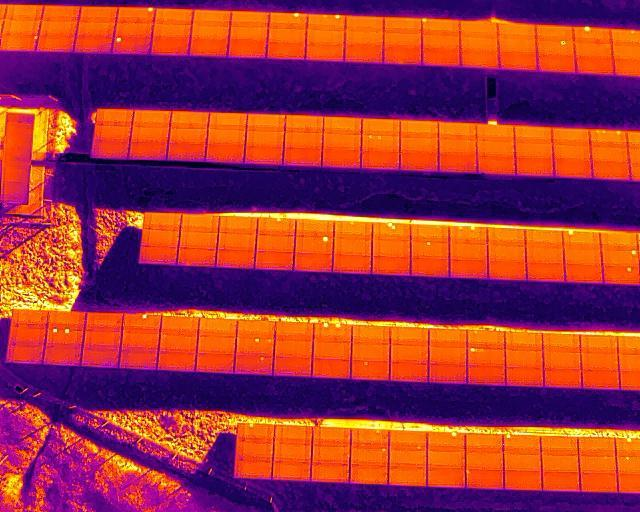Cell: (350, 428, 389, 448), (351, 361, 390, 381), (235, 355, 273, 374), (501, 434, 541, 452), (467, 348, 506, 366), (411, 241, 449, 259), (389, 431, 427, 449), (350, 447, 388, 465), (333, 221, 372, 238), (601, 249, 640, 266), (295, 237, 333, 254), (258, 218, 296, 235), (602, 266, 640, 283), (114, 37, 151, 54), (427, 432, 465, 448), (237, 424, 274, 440), (575, 26, 612, 42), (117, 7, 154, 23), (269, 13, 308, 28), (422, 19, 460, 34), (537, 40, 575, 55), (563, 233, 600, 248), (122, 315, 161, 329)
Cell-Multi: (235, 335, 275, 354), (590, 129, 628, 147), (361, 135, 399, 153), (371, 222, 410, 239), (45, 327, 84, 344), (314, 325, 353, 341), (307, 14, 346, 30), (449, 227, 487, 242)
No-Anomaly: (503, 451, 542, 473), (41, 344, 82, 364), (274, 337, 313, 358), (410, 257, 449, 278), (120, 329, 160, 349), (83, 326, 123, 346), (119, 349, 159, 369), (311, 462, 349, 483), (178, 230, 217, 250), (503, 470, 542, 490), (160, 331, 199, 351), (465, 450, 504, 470), (312, 340, 351, 360), (195, 351, 234, 371), (273, 442, 313, 461), (564, 264, 604, 283), (541, 472, 580, 491), (426, 467, 465, 486), (388, 466, 427, 485), (9, 325, 48, 344), (372, 256, 411, 275), (449, 260, 488, 279), (255, 251, 294, 270), (177, 249, 216, 268), (272, 462, 311, 481), (388, 448, 427, 467), (158, 351, 197, 370), (92, 139, 129, 159), (236, 440, 273, 460), (580, 473, 618, 492), (245, 146, 283, 165), (323, 115, 361, 134), (235, 460, 273, 479), (544, 368, 582, 387), (82, 347, 120, 366), (505, 349, 543, 368), (6, 343, 44, 362), (525, 264, 565, 282), (141, 246, 177, 266), (351, 343, 391, 361), (350, 465, 387, 484), (286, 113, 323, 132), (551, 128, 590, 146), (333, 237, 372, 255), (448, 242, 487, 260), (256, 235, 295, 253), (477, 157, 516, 175), (439, 155, 478, 173), (321, 149, 360, 167), (312, 429, 351, 447), (333, 255, 372, 273), (216, 250, 255, 268), (505, 368, 544, 386), (426, 449, 465, 467), (273, 357, 312, 375), (390, 363, 429, 381), (390, 345, 429, 363), (488, 245, 526, 263), (468, 470, 504, 489), (206, 146, 244, 164), (578, 438, 616, 456), (312, 444, 350, 462), (294, 254, 332, 272), (247, 113, 285, 131), (171, 111, 209, 129), (209, 111, 247, 129), (429, 347, 467, 365), (582, 352, 618, 371), (189, 38, 227, 56), (575, 58, 615, 75), (459, 51, 499, 68), (544, 351, 581, 369), (207, 129, 246, 146), (371, 240, 410, 257), (219, 217, 258, 234), (284, 132, 323, 149), (465, 434, 504, 451), (74, 36, 113, 53), (197, 335, 236, 352), (352, 326, 391, 343), (488, 263, 527, 280), (562, 247, 601, 264), (524, 247, 563, 264), (306, 44, 345, 61), (540, 455, 579, 472), (383, 47, 422, 64), (267, 42, 306, 59), (227, 41, 266, 58), (143, 230, 179, 248), (131, 126, 169, 143), (439, 122, 477, 139), (362, 118, 400, 135), (217, 233, 255, 250), (181, 215, 219, 232), (129, 143, 167, 160), (361, 152, 399, 169), (284, 149, 322, 166), (168, 144, 206, 161), (540, 437, 578, 454), (542, 334, 580, 351), (429, 330, 467, 347), (391, 329, 429, 346), (36, 35, 74, 52), (345, 46, 383, 63), (2, 18, 40, 35), (467, 366, 505, 383), (499, 53, 537, 70), (536, 55, 574, 72), (421, 49, 459, 66), (523, 230, 563, 246), (579, 455, 616, 472), (582, 371, 619, 388), (313, 360, 350, 377), (410, 225, 449, 241), (600, 233, 639, 249), (399, 137, 438, 153), (400, 154, 439, 170), (590, 147, 629, 163), (467, 332, 506, 348), (199, 319, 238, 335), (133, 110, 172, 126), (383, 32, 422, 48), (151, 39, 190, 55), (145, 213, 181, 230), (169, 128, 207, 144), (323, 134, 361, 150), (77, 22, 115, 38), (155, 8, 193, 24), (152, 23, 192, 38), (515, 127, 552, 143), (478, 141, 515, 157), (516, 158, 553, 174), (554, 161, 591, 177), (506, 333, 543, 349), (96, 108, 133, 124), (430, 365, 467, 381), (580, 336, 617, 352), (400, 122, 439, 137), (245, 132, 284, 147), (85, 312, 124, 327), (237, 320, 276, 335), (48, 311, 87, 326), (460, 36, 499, 51), (268, 28, 307, 43), (306, 30, 345, 45), (535, 25, 574, 40), (230, 26, 269, 41), (39, 21, 78, 36), (232, 11, 271, 26), (79, 8, 118, 23), (574, 43, 613, 58), (95, 124, 131, 140), (0, 35, 36, 51), (477, 126, 515, 141), (487, 229, 525, 244), (439, 140, 477, 155), (591, 163, 629, 178), (295, 221, 333, 236), (552, 146, 590, 161), (275, 426, 313, 441), (422, 34, 460, 49), (345, 32, 383, 47), (192, 24, 230, 39), (345, 16, 383, 31), (384, 17, 422, 32), (193, 9, 231, 24), (42, 6, 80, 21), (516, 143, 553, 158), (115, 23, 152, 38), (5, 5, 42, 20), (499, 38, 536, 53), (11, 311, 49, 325), (499, 25, 536, 39), (275, 323, 314, 336), (460, 23, 499, 36), (162, 317, 200, 330)
